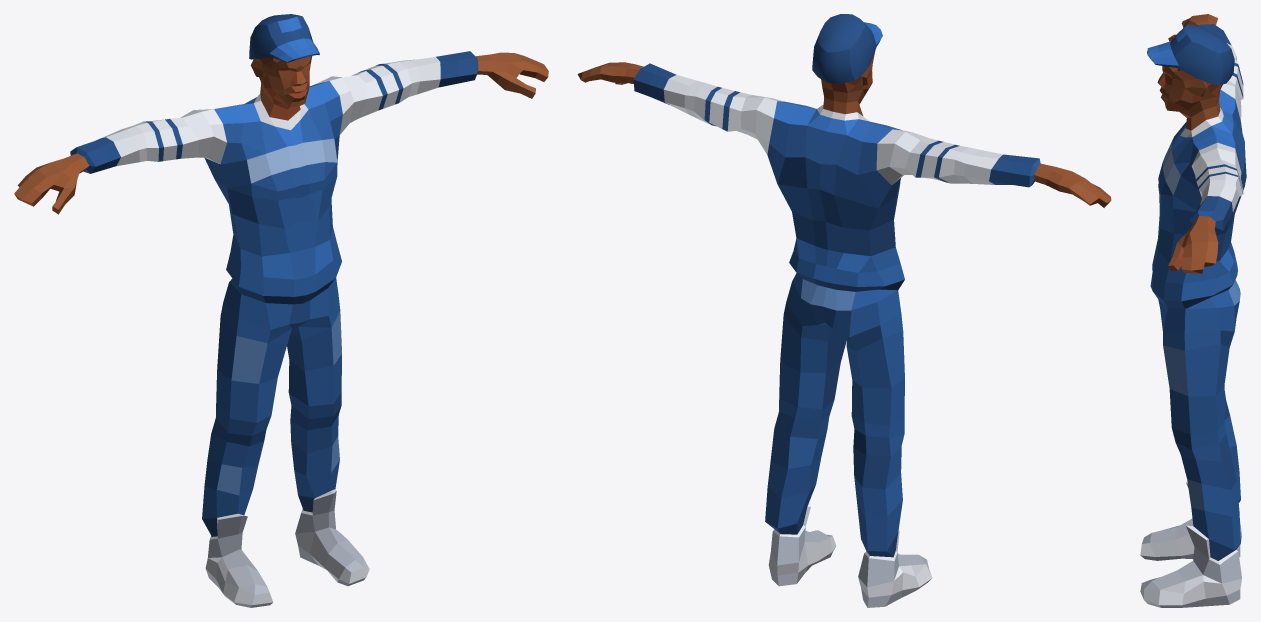
Rendered from casual_Male_H-model.fbx.
The picture shows the model from 3 angles, left to right: view 1: azimuth 30°, elevation 25°; view 2: azimuth 150°, elevation 25°; view 3: azimuth 270°, elevation 25°; orthographic projection. The views are drawn at different scales.
Visible parts, largest first — view 1: casual_Male_H, acc_cap_dblue; view 2: casual_Male_H, acc_cap_dblue; view 3: casual_Male_H, acc_cap_dblue.
Part boxes in pixels (x1,y1,x2,y2): casual_Male_H: (14, 51, 548, 607); acc_cap_dblue: (249, 14, 319, 62); casual_Male_H: (577, 51, 1111, 607); acc_cap_dblue: (812, 14, 882, 83); casual_Male_H: (1140, 14, 1246, 607); acc_cap_dblue: (1147, 24, 1234, 85).
Bounding box in the file's own units: 168 × 170 × 29.9.
1 material, 1 textured.
